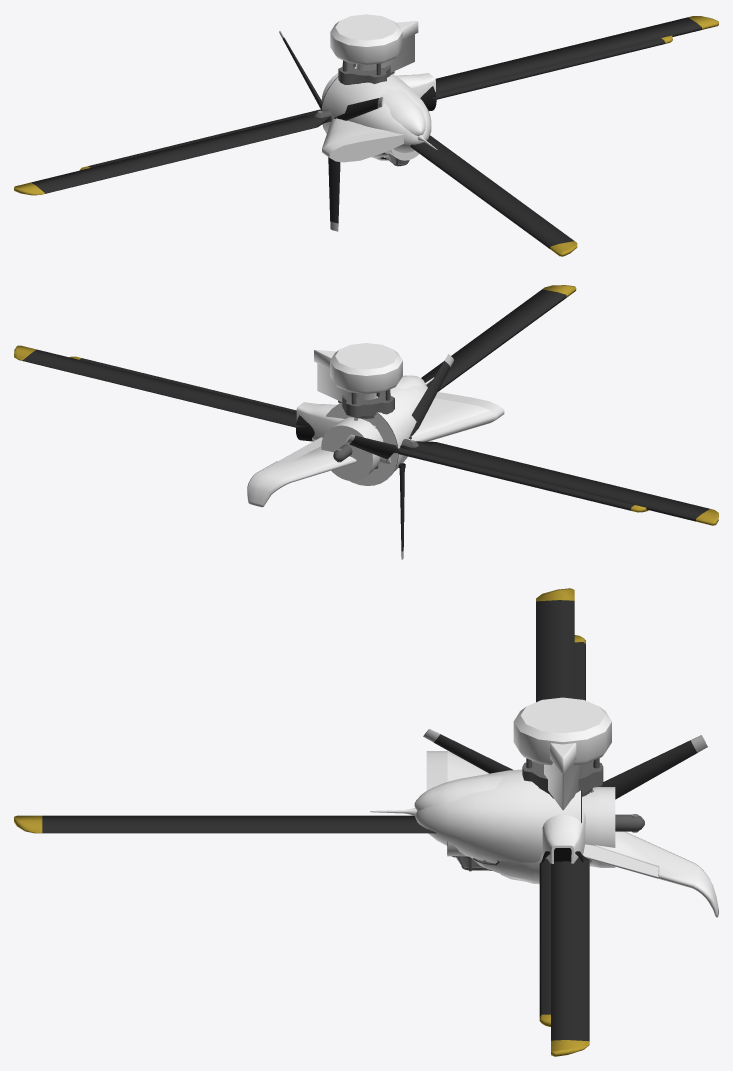
The model's file is Parts_Mirrored_2.glb.
The picture shows the model from 3 angles, top to bottom: view 1: azimuth 30°, elevation 25°; view 2: azimuth 150°, elevation 25°; view 3: azimuth 270°, elevation 25°; orthographic projection. The views are drawn at different scales.
Visible parts, largest first — view 1: HelicopterEngine__1_M, HelicopterEngine__3_M, HelicopterEngine__2_M, HugeCockpit__0_M, HelicopterEngine__8_M, SmallJetWing__0_M, HelicopterEngineSmall__0_M, JetlineCockpit__2_M, HelicopterEngineSmall__3_M, HelicopterEngine__7_M, HugePropEngine__0_M, HelicopterEngineSmall__1_M (+3 smaller); view 2: HelicopterEngine__1_M, HelicopterEngine__3_M, HelicopterEngine__2_M, SmallJetWing__1_M, HelicopterEngine__8_M, HugeCockpit__0_M, SmallJetWing__0_M, PrivateJetCockpit__0_M, HelicopterEngineSmall__1_M, HelicopterEngine__7_M, HelicopterEngineSmall__3_M, HugePropEngine__4_M (+3 smaller); view 3: HugeCockpit__0_M, HelicopterEngine__2_M, HelicopterEngine__3_M, HelicopterEngine__8_M, HelicopterEngine__1_M, SmallJetWing__1_M, JetlineCockpit__2_M, HelicopterEngineSmall__0_M, PrivateJetCockpit__0_M, HugePropEngine__2_M, HelicopterEngineSmall__3_M, HugePropEngine__4_M (+5 smaller).
Boxes of the visible parts, bbox=[...] form: HelicopterEngine__1_M: bbox=[14, 112, 330, 195]; HelicopterEngine__3_M: bbox=[435, 16, 718, 92]; HelicopterEngine__2_M: bbox=[410, 135, 577, 256]; HugeCockpit__0_M: bbox=[321, 67, 431, 160]; HelicopterEngine__8_M: bbox=[330, 14, 402, 64]; SmallJetWing__0_M: bbox=[322, 118, 404, 162]; HelicopterEngineSmall__0_M: bbox=[432, 35, 672, 99]; JetlineCockpit__2_M: bbox=[371, 88, 425, 157]; HelicopterEngineSmall__3_M: bbox=[356, 21, 418, 72]; HelicopterEngine__7_M: bbox=[338, 60, 394, 84]; HugePropEngine__0_M: bbox=[328, 157, 340, 231]; HelicopterEngineSmall__1_M: bbox=[79, 109, 331, 170]; HelicopterEngine__1_M: bbox=[400, 441, 718, 525]; HelicopterEngine__3_M: bbox=[14, 345, 308, 428]; HelicopterEngine__2_M: bbox=[421, 285, 576, 391]; SmallJetWing__1_M: bbox=[248, 398, 489, 504]; HelicopterEngine__8_M: bbox=[330, 343, 402, 468]; HugeCockpit__0_M: bbox=[326, 385, 429, 485]; SmallJetWing__0_M: bbox=[247, 392, 504, 507]; PrivateJetCockpit__0_M: bbox=[321, 417, 383, 481]; HelicopterEngineSmall__1_M: bbox=[397, 447, 648, 512]; HelicopterEngine__7_M: bbox=[338, 389, 394, 468]; HelicopterEngineSmall__3_M: bbox=[314, 349, 376, 401]; HugePropEngine__4_M: bbox=[296, 402, 390, 464]; HugeCockpit__0_M: bbox=[415, 769, 580, 881]; HelicopterEngine__2_M: bbox=[14, 815, 436, 833]; HelicopterEngine__3_M: bbox=[551, 855, 589, 1056]; HelicopterEngine__8_M: bbox=[513, 697, 611, 765]; HelicopterEngine__1_M: bbox=[536, 588, 574, 702]; SmallJetWing__1_M: bbox=[447, 751, 718, 913]; JetlineCockpit__2_M: bbox=[414, 773, 542, 884]; HelicopterEngineSmall__0_M: bbox=[539, 858, 550, 1026]; PrivateJetCockpit__0_M: bbox=[582, 787, 615, 867]; HugePropEngine__2_M: bbox=[598, 735, 707, 799]; HelicopterEngineSmall__3_M: bbox=[544, 743, 582, 810]; HugePropEngine__4_M: bbox=[542, 808, 585, 863].
Bounding box in the file's own units: 19.01 × 5.02 × 12.21.
70 materials, 25 textured.
